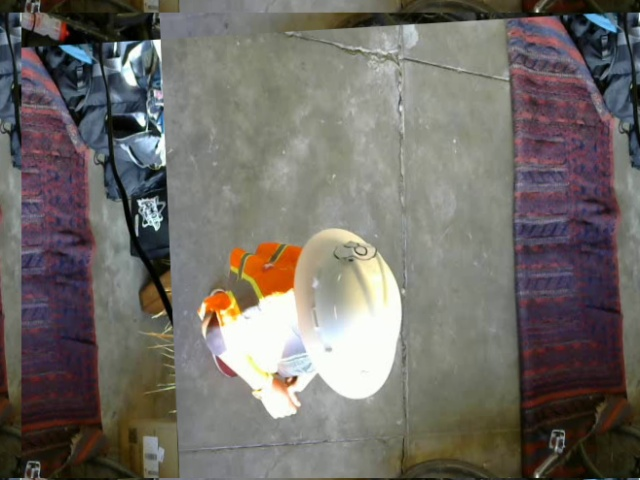eight: (330, 237, 378, 266)
